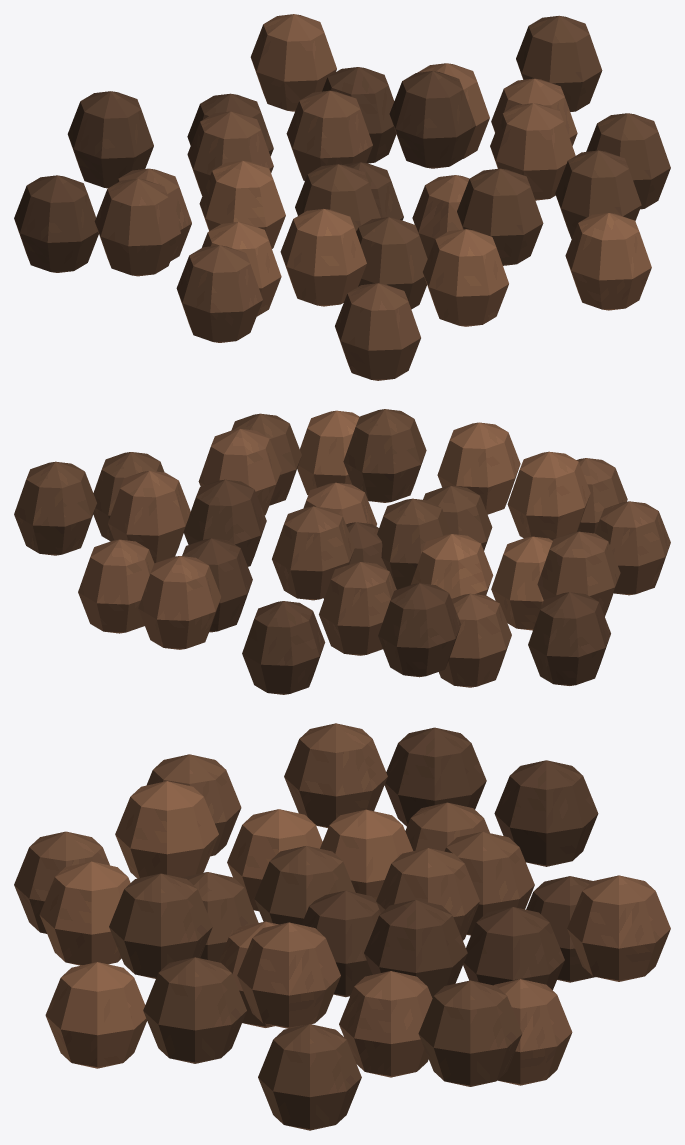
File: coffee_raw_kentucky.glb
The picture shows the model from 3 angles, top to bottom: view 1: azimuth 30°, elevation 25°; view 2: azimuth 150°, elevation 25°; view 3: azimuth 270°, elevation 25°; orthographic projection. The views are drawn at different scales.
Parts seen in each view (by area): view 1: block_roasted grounds (×28); view 2: block_roasted grounds (×28); view 3: block_roasted grounds (×28).
Part boxes in pixels (x1,y1,x2,y2): block_roasted grounds (×28): (14, 14, 670, 380); block_roasted grounds (×28): (14, 409, 670, 694); block_roasted grounds (×28): (14, 723, 670, 1130).
Bounding box in the file's own units: 0.0471 × 0.0106 × 0.0414.
1 material, 1 textured.
